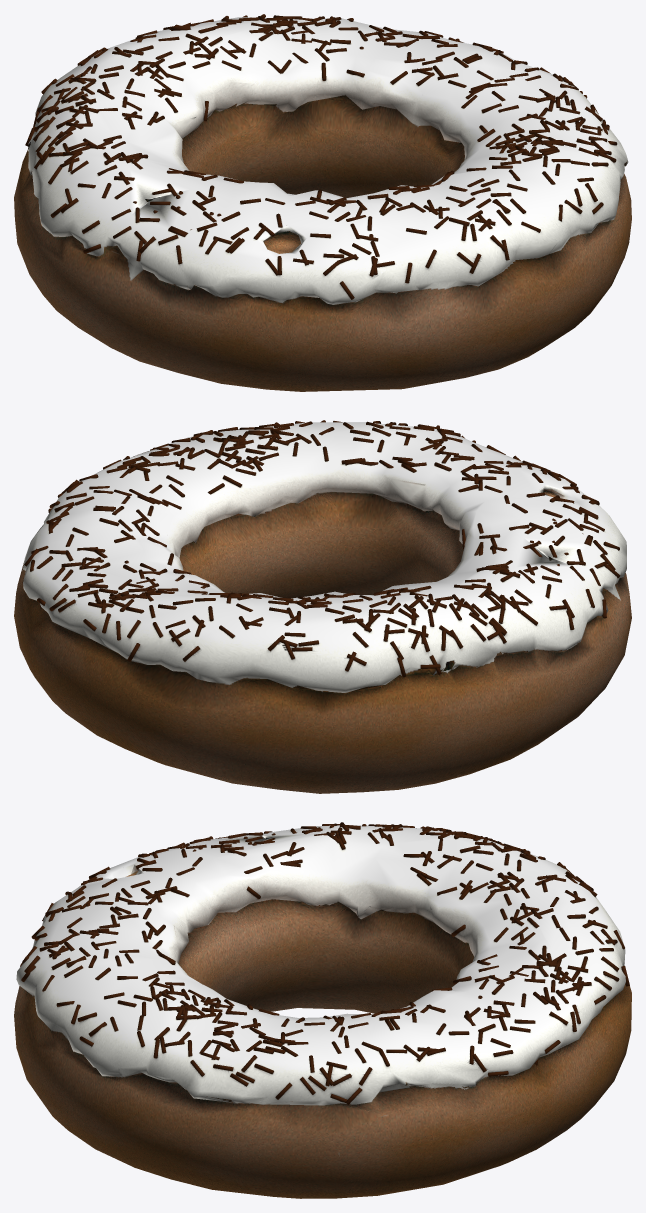
3 renders of one model, top to bottom at view 1: azimuth 30°, elevation 25°; view 2: azimuth 150°, elevation 25°; view 3: azimuth 270°, elevation 25°, orthographic.
Parts seen in each view (by area): view 1: donut_base, choco_pastry_topping; view 2: donut_base, choco_pastry_topping; view 3: donut_base, choco_pastry_topping.
Boxes of the visible parts, bbox=[...] form: donut_base: bbox=[14, 17, 631, 391]; choco_pastry_topping: bbox=[25, 14, 617, 299]; donut_base: bbox=[14, 422, 631, 793]; choco_pastry_topping: bbox=[22, 420, 620, 677]; donut_base: bbox=[14, 825, 631, 1198]; choco_pastry_topping: bbox=[20, 822, 629, 1104].
Bounding box in the file's own units: 266 × 88.11 × 266.
3 materials, 2 textured.
